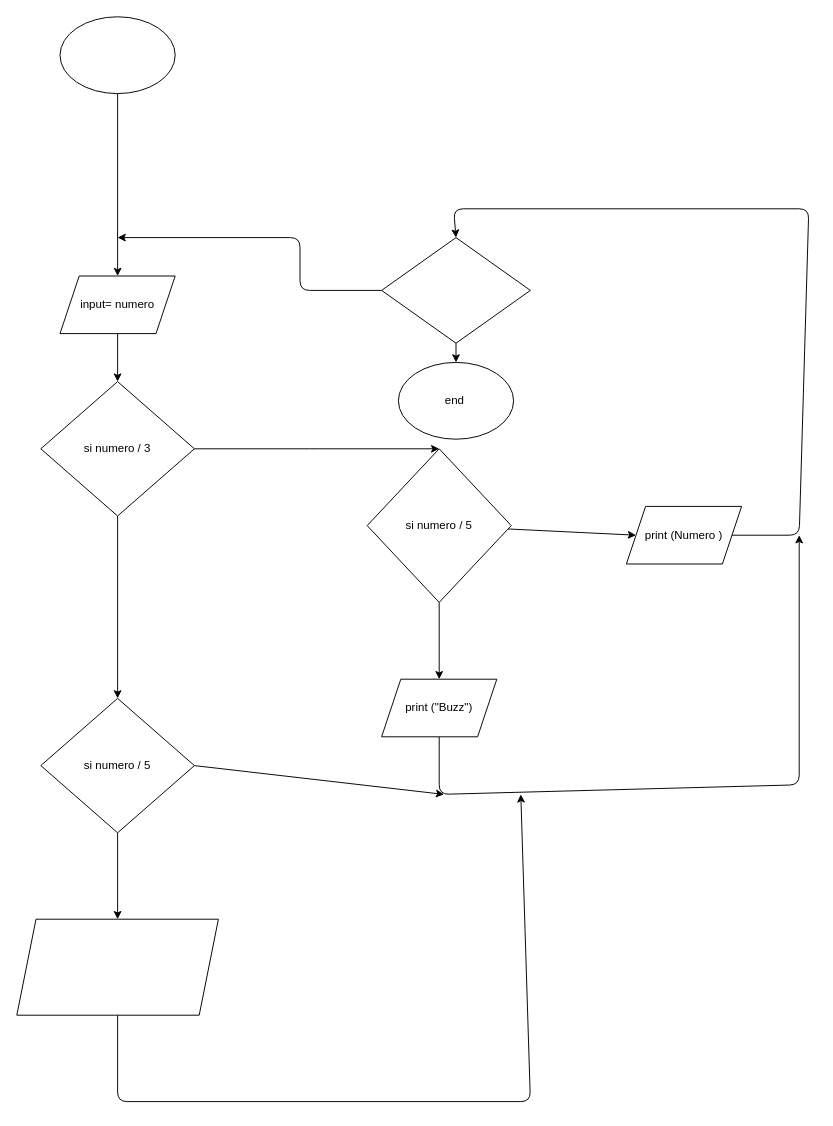
The diagram is 833 pixels wide and 1126 high, and some of its shapes have lost their labels. The shapes that lost their labels are listed below. From the top down, each one's centre as x and y in pixels, then its label:
(117,55): START
(455,290): si numero es >=20
(117,966): Print ("Fizz Buzz")
